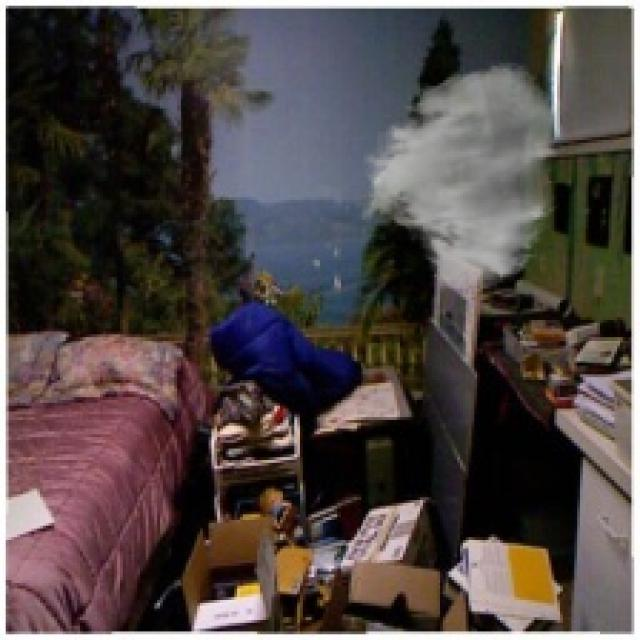smoke: (357, 60, 566, 294)
